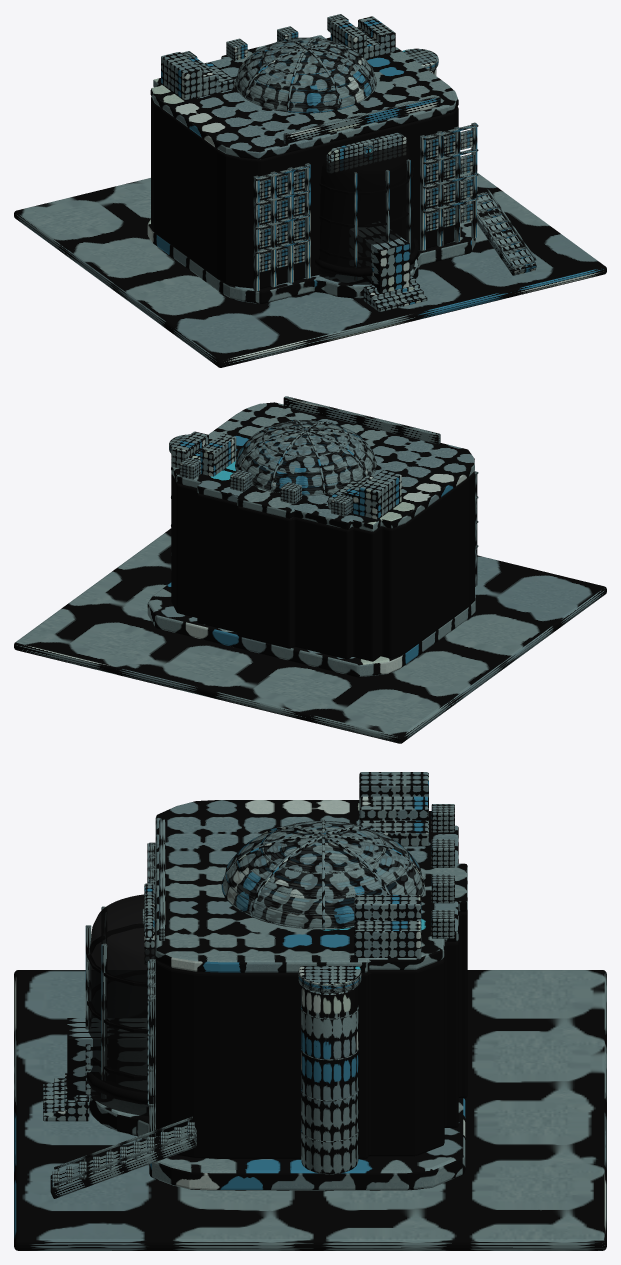
File: asset.fbx
The picture shows the model from 3 angles, top to bottom: view 1: azimuth 30°, elevation 25°; view 2: azimuth 150°, elevation 25°; view 3: azimuth 270°, elevation 25°; orthographic projection. The views are drawn at different scales.
Visible parts, largest first — view 1: site.seabed_proxy__LOD0, structure.main_shell__LOD0, structure.roof_slab__LOD0, facade.central_rotunda__LOD0, roof.central_dome__LOD0, structure.foundation_plinth__LOD0, entrance.front_trim_clearance__LOD0, roof.mass_left__LOD0, roof.mass_right__LOD0, dome.ring.lower__LOD0, facade.sign_header__LOD0, roof.front_parapet__LOD0 (+21 smaller); view 2: site.seabed_proxy__LOD0, structure.main_shell__LOD0, structure.roof_slab__LOD0, roof.central_dome__LOD0, structure.foundation_plinth__LOD0, roof.mass_left__LOD0, roof.mass_right__LOD0, dome.ring.lower__LOD0, roof.front_parapet__LOD0, dome.ring.middle__LOD0, dome.ring.upper__LOD0, dome.base_ring__LOD0; view 3: site.seabed_proxy__LOD0, structure.main_shell__LOD0, structure.roof_slab__LOD0, roof.central_dome__LOD0, structure.foundation_plinth__LOD0, facade.central_rotunda__LOD0, annex.east_tower__LOD0, roof.mass_left__LOD0, entrance.front_trim_clearance__LOD0, roof.mass_right__LOD0, dome.ring.middle__LOD0, dome.ring.lower__LOD0 (+17 smaller).
Part boxes in pixels (x1=…): site.seabed_proxy__LOD0: x1=14, y1=172, x2=606, y2=367; structure.main_shell__LOD0: x1=151, y1=97, x2=458, y2=288; structure.roof_slab__LOD0: x1=150, y1=35, x2=458, y2=159; facade.central_rotunda__LOD0: x1=318, y1=144, x2=414, y2=284; roof.central_dome__LOD0: x1=236, y1=38, x2=375, y2=113; structure.foundation_plinth__LOD0: x1=147, y1=219, x2=475, y2=303; entrance.front_trim_clearance__LOD0: x1=350, y1=222, x2=410, y2=293; roof.mass_left__LOD0: x1=161, y1=52, x2=234, y2=100; roof.mass_right__LOD0: x1=330, y1=16, x2=395, y2=58; dome.ring.lower__LOD0: x1=237, y1=51, x2=374, y2=103; facade.sign_header__LOD0: x1=326, y1=132, x2=406, y2=173; roof.front_parapet__LOD0: x1=283, y1=96, x2=440, y2=143; site.seabed_proxy__LOD0: x1=14, y1=528, x2=606, y2=743; structure.main_shell__LOD0: x1=171, y1=471, x2=474, y2=661; structure.roof_slab__LOD0: x1=171, y1=402, x2=474, y2=531; roof.central_dome__LOD0: x1=236, y1=420, x2=375, y2=495; structure.foundation_plinth__LOD0: x1=147, y1=582, x2=475, y2=677; roof.mass_left__LOD0: x1=328, y1=470, x2=401, y2=519; roof.mass_right__LOD0: x1=171, y1=431, x2=236, y2=476; dome.ring.lower__LOD0: x1=237, y1=434, x2=374, y2=485; roof.front_parapet__LOD0: x1=283, y1=396, x2=440, y2=444; dome.ring.middle__LOD0: x1=246, y1=428, x2=365, y2=472; dome.ring.upper__LOD0: x1=262, y1=420, x2=349, y2=456; dome.base_ring__LOD0: x1=235, y1=440, x2=376, y2=495; site.seabed_proxy__LOD0: x1=14, y1=970, x2=606, y2=1250; structure.main_shell__LOD0: x1=155, y1=910, x2=467, y2=1158; structure.roof_slab__LOD0: x1=155, y1=800, x2=467, y2=972; roof.central_dome__LOD0: x1=223, y1=821, x2=423, y2=929; structure.foundation_plinth__LOD0: x1=89, y1=1096, x2=465, y2=1190; facade.central_rotunda__LOD0: x1=88, y1=893, x2=155, y2=1116; annex.east_tower__LOD0: x1=301, y1=986, x2=358, y2=1174; roof.mass_left__LOD0: x1=359, y1=772, x2=428, y2=846; entrance.front_trim_clearance__LOD0: x1=67, y1=1018, x2=146, y2=1102; roof.mass_right__LOD0: x1=354, y1=895, x2=421, y2=959; dome.ring.middle__LOD0: x1=237, y1=834, x2=409, y2=896; dome.ring.lower__LOD0: x1=225, y1=840, x2=421, y2=915.
Size of what is drawn, in the model's own units: 50 by 24.3 by 46.
Materials: 7 (7 with a texture image).
